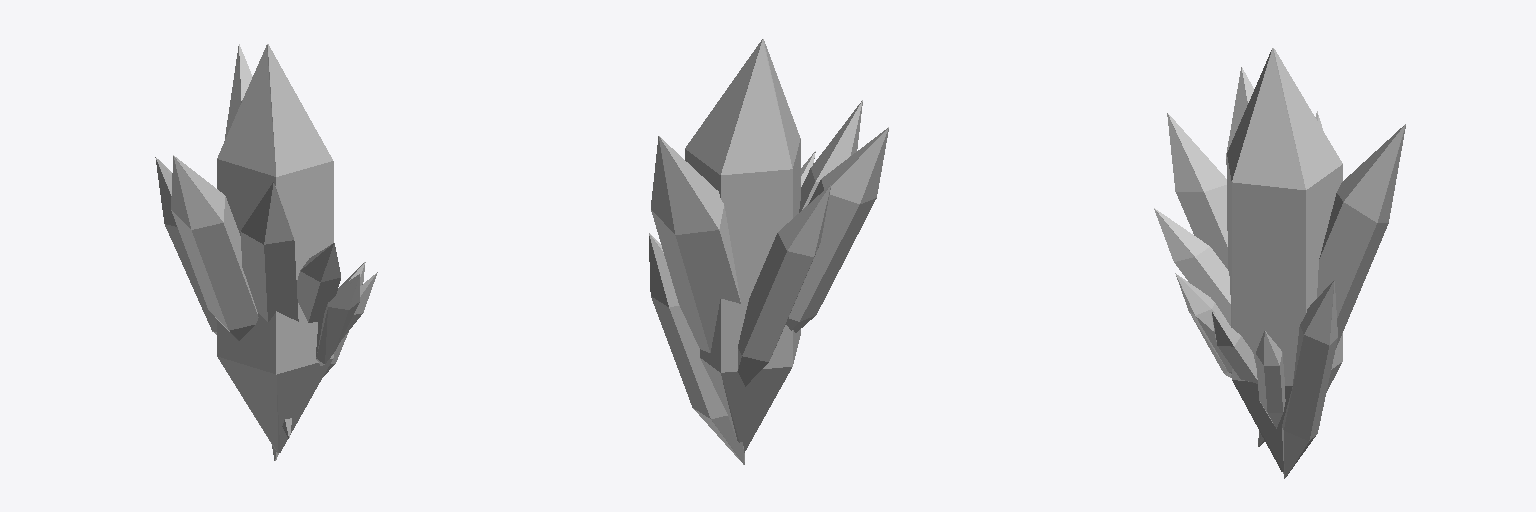
Rendered from Cristal.obj.
3 renders of one model, left to right at view 1: azimuth 30°, elevation 25°; view 2: azimuth 150°, elevation 25°; view 3: azimuth 270°, elevation 25°, orthographic.
Parts seen in each view (by area): view 1: Cylinder; view 2: Cylinder; view 3: Cylinder.
Part boxes in pixels (x1,y1,x2,y2): Cylinder: (155, 44, 377, 460); Cylinder: (649, 39, 888, 464); Cylinder: (1154, 48, 1405, 478).
Size of the model in its own units: 3.19 by 6.35 by 3.42.